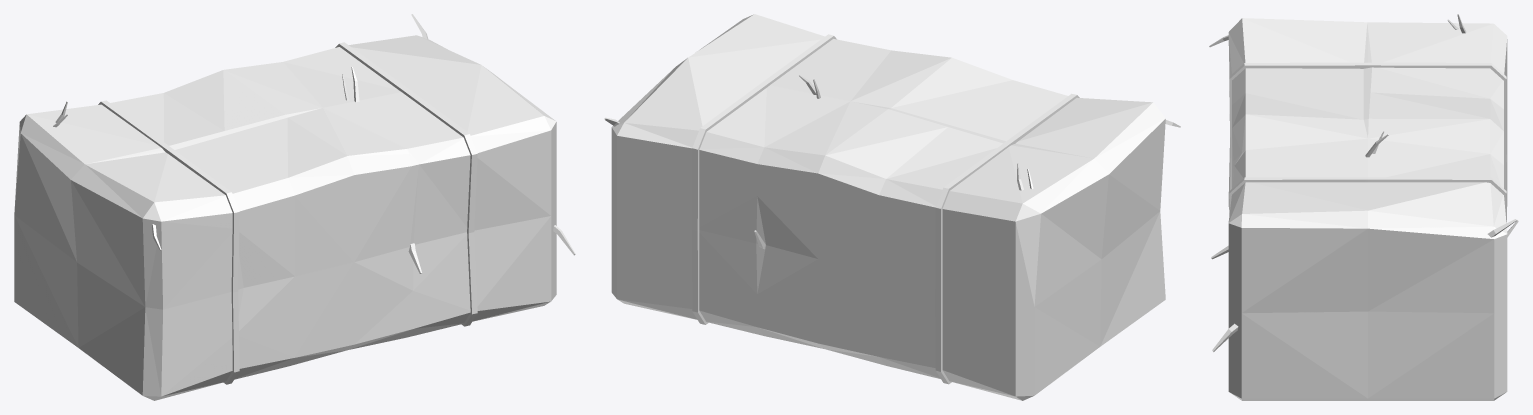
The model's file is Prop_Hay_Bale_Square_02.glb.
3 renders of one model, left to right at view 1: azimuth 30°, elevation 25°; view 2: azimuth 150°, elevation 25°; view 3: azimuth 270°, elevation 25°, orthographic. The views are drawn at different scales.
Visible parts, largest first — view 1: Prop_Hay_Bale_Square_02; view 2: Prop_Hay_Bale_Square_02; view 3: Prop_Hay_Bale_Square_02.
Boxes of the visible parts, x1=… form: Prop_Hay_Bale_Square_02: x1=14, y1=14, x2=575, y2=400; Prop_Hay_Bale_Square_02: x1=604, y1=14, x2=1180, y2=400; Prop_Hay_Bale_Square_02: x1=1209, y1=14, x2=1518, y2=400.
Bounding box in the file's own units: 1.79 × 0.8654 × 1.14.
1 material, 1 textured.
